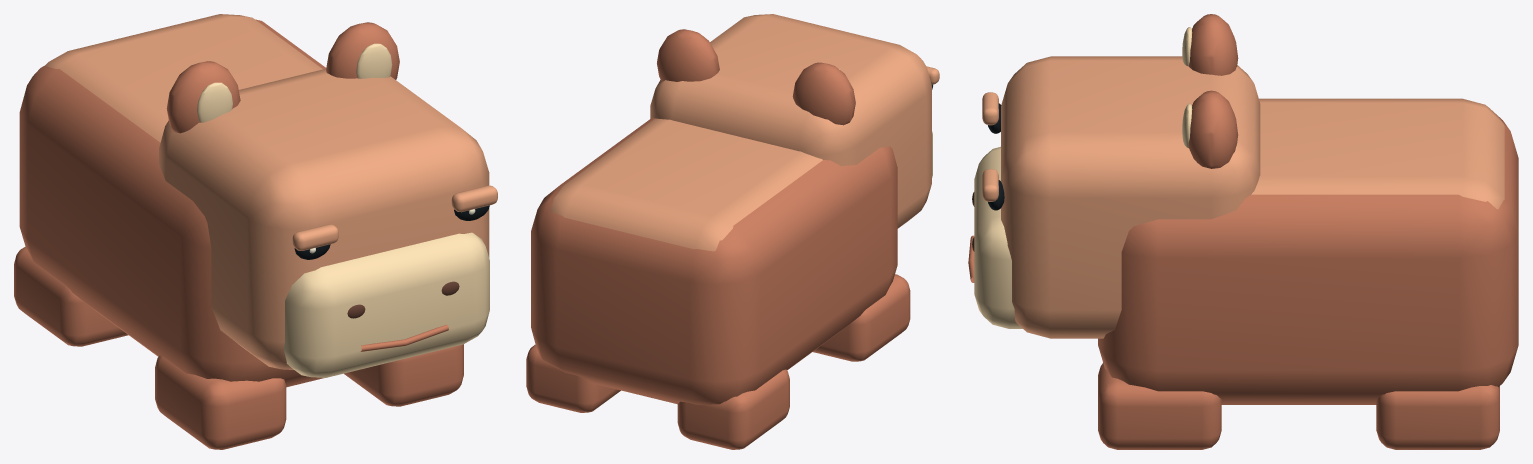
File: capybara.glb
The picture shows the model from 3 angles, left to right: view 1: azimuth 30°, elevation 25°; view 2: azimuth 150°, elevation 25°; view 3: azimuth 270°, elevation 25°; orthographic projection. The views are drawn at different scales.
Parts seen in each view (by area): view 1: Squared head, Chunky body, Cream snout, Broad upper back, Tucked foot, Tucked foot.001, Tucked foot.002, Little round ear, Little round ear.001, Ear inner, Ear inner.001, Heavy eyelid.001 (+2 smaller); view 2: Chunky body, Squared head, Broad upper back, Tucked foot.001, Tucked foot, Tucked foot.003, Little round ear, Little round ear.001; view 3: Chunky body, Squared head, Broad upper back, Tucked foot.002, Tucked foot.003, Cream snout, Little round ear.001, Little round ear.
Part boxes in pixels (<box>): Squared head: <box>159,68,489,369</box>; Chunky body: <box>19,19,326,387</box>; Cream snout: <box>283,232,489,377</box>; Broad upper back: <box>45,14,322,142</box>; Tucked foot: <box>155,355,286,449</box>; Tucked foot.001: <box>14,247,128,346</box>; Tucked foot.002: <box>344,344,463,406</box>; Little round ear: <box>166,61,240,133</box>; Little round ear.001: <box>326,22,399,79</box>; Ear inner: <box>197,82,232,122</box>; Ear inner.001: <box>356,43,392,78</box>; Heavy eyelid.001: <box>451,185,497,212</box>; Chunky body: <box>531,117,897,404</box>; Squared head: <box>650,14,931,228</box>; Broad upper back: <box>550,118,822,251</box>; Tucked foot.001: <box>677,369,789,449</box>; Tucked foot: <box>813,274,910,361</box>; Tucked foot.003: <box>526,344,620,412</box>; Little round ear: <box>792,62,855,125</box>; Little round ear.001: <box>657,29,719,81</box>; Chunky body: <box>1098,108,1518,404</box>; Squared head: <box>1001,56,1260,338</box>; Broad upper back: <box>1251,98,1504,209</box>; Tucked foot.002: <box>1098,363,1221,449</box>; Tucked foot.003: <box>1376,385,1499,449</box>; Cream snout: <box>974,146,1022,328</box>; Little round ear.001: <box>1188,90,1238,168</box>; Little round ear: <box>1188,14,1238,75</box>.
Bounding box in the file's own units: 1.44 × 1.81 × 2.67.
